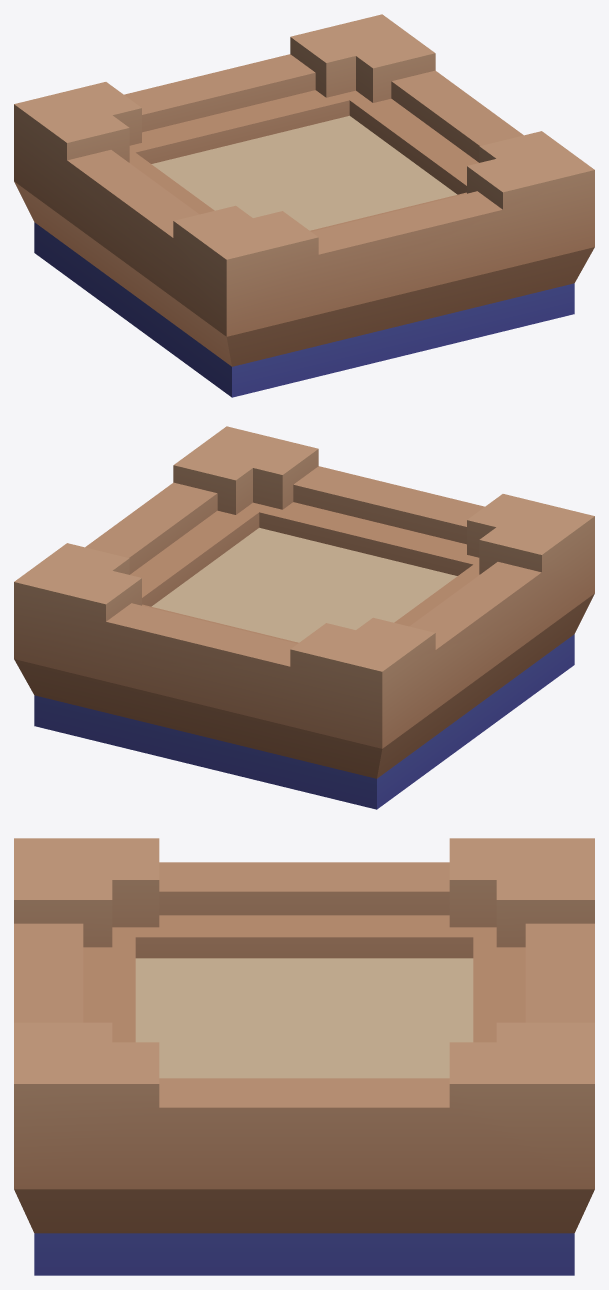
File: tower-square-top-color.glb
3 renders of one model, top to bottom at view 1: azimuth 30°, elevation 25°; view 2: azimuth 150°, elevation 25°; view 3: azimuth 270°, elevation 25°, orthographic. The views are drawn at different scales.
Parts seen in each view (by area): view 1: tower-square-top-color; view 2: tower-square-top-color; view 3: tower-square-top-color.
Boxes of the visible parts, x1,y1,x2,y2 form: tower-square-top-color: (14,14,594,397); tower-square-top-color: (14,426,594,809); tower-square-top-color: (14,838,594,1275).
Bounding box in the file's own units: 1 × 0.38 × 1.
